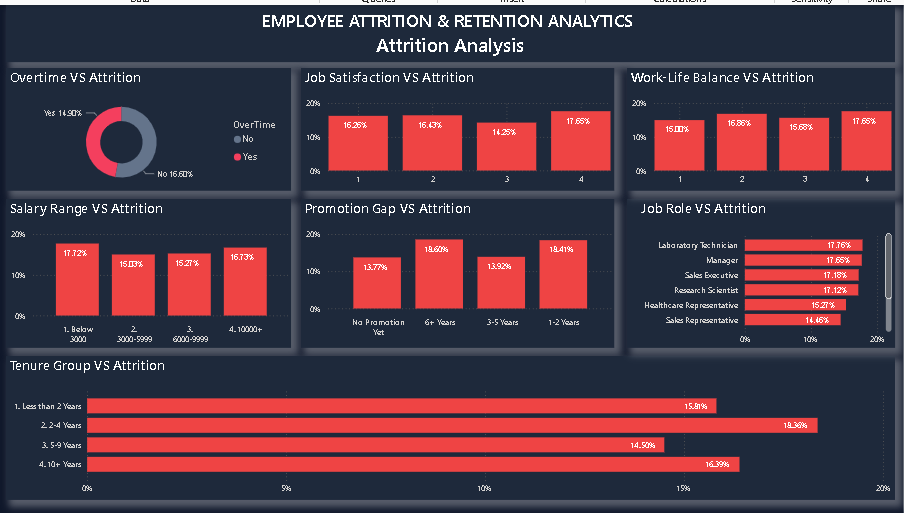

The page's visual inventory and layout, read from the dashboard file:
{"tool":"powerbi","page":{"name":"Attrition Analysis","canvas":[1280,720],"ordinal":1},"visuals":[{"type":"textbox","box":[9.9,0,1260,80.8],"z":0},{"type":"donutChart","title":"Overtime VS Attrition","fields":{"Category":["HR_Analytics_Final.OverTime"],"Y":["HR_Analytics_Final.Attrition rate"]},"box":[9.9,89.3,403.9,174.3],"z":1000},{"type":"clusteredColumnChart","title":"Salary Range VS Attrition","fields":{"Category":["HR_Analytics_Final.SalaryRange"],"Y":["HR_Analytics_Final.Attrition rate"]},"box":[9.9,275,403.9,211.2],"z":2000},{"type":"columnChart","title":"Job Satisfaction VS Attrition","fields":{"Category":["HR_Analytics_Final.JobSatisfaction"],"Y":["HR_Analytics_Final.Attrition rate"]},"box":[428,89.3,443.6,174.3],"z":3000},{"type":"clusteredColumnChart","title":"Promotion Gap VS Attrition","fields":{"Category":["HR_Analytics_Final.PromotionGap"],"Y":["HR_Analytics_Final.Attrition rate"]},"box":[428,275,443.6,211.2],"z":4000},{"type":"clusteredBarChart","title":"Tenure Group VS Attrition","fields":{"Category":["HR_Analytics_Final.TenureGroup"],"Y":["HR_Analytics_Final.Attrition rate"]},"box":[9.9,497.5,1260,204.1],"z":5000},{"type":"clusteredBarChart","title":"Job Role VS Attrition","fields":{"Category":["HR_Analytics_Final.JobRole"],"Y":["HR_Analytics_Final.Attrition rate"]},"box":[890.1,275,379.8,211.2],"z":6000},{"type":"clusteredColumnChart","title":"Work-Life Balance VS Attrition","fields":{"Category":["HR_Analytics_Final.WorkLifeBalance"],"Y":["HR_Analytics_Final.Attrition rate"]},"box":[890.1,89.3,379.8,174.3],"z":7000}]}

Visuals, with their boxes on the page's 1280x720 design canvas (x1, y1, x2, y2). These are canvas units, not pixel positions in the 904x513 screenshot, which may show the page scaled, cropped or inside an application window:
textbox: (left=10, top=0, right=1270, bottom=81)
"Overtime VS Attrition" donutChart: (left=10, top=89, right=414, bottom=264)
"Salary Range VS Attrition" clusteredColumnChart: (left=10, top=275, right=414, bottom=486)
"Job Satisfaction VS Attrition" columnChart: (left=428, top=89, right=872, bottom=264)
"Promotion Gap VS Attrition" clusteredColumnChart: (left=428, top=275, right=872, bottom=486)
"Tenure Group VS Attrition" clusteredBarChart: (left=10, top=498, right=1270, bottom=702)
"Job Role VS Attrition" clusteredBarChart: (left=890, top=275, right=1270, bottom=486)
"Work-Life Balance VS Attrition" clusteredColumnChart: (left=890, top=89, right=1270, bottom=264)
